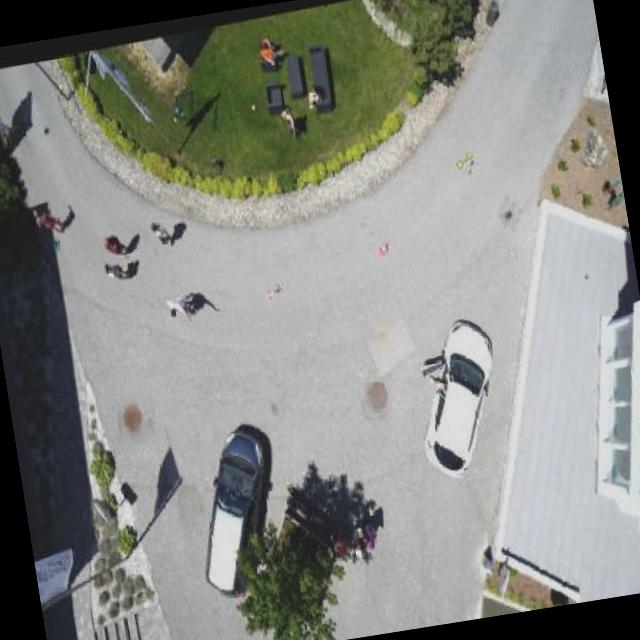Person: (20, 192, 66, 240), (146, 285, 202, 322), (87, 252, 135, 286), (94, 223, 134, 259), (253, 27, 284, 68), (140, 211, 176, 246), (276, 99, 302, 134), (299, 76, 324, 110)
